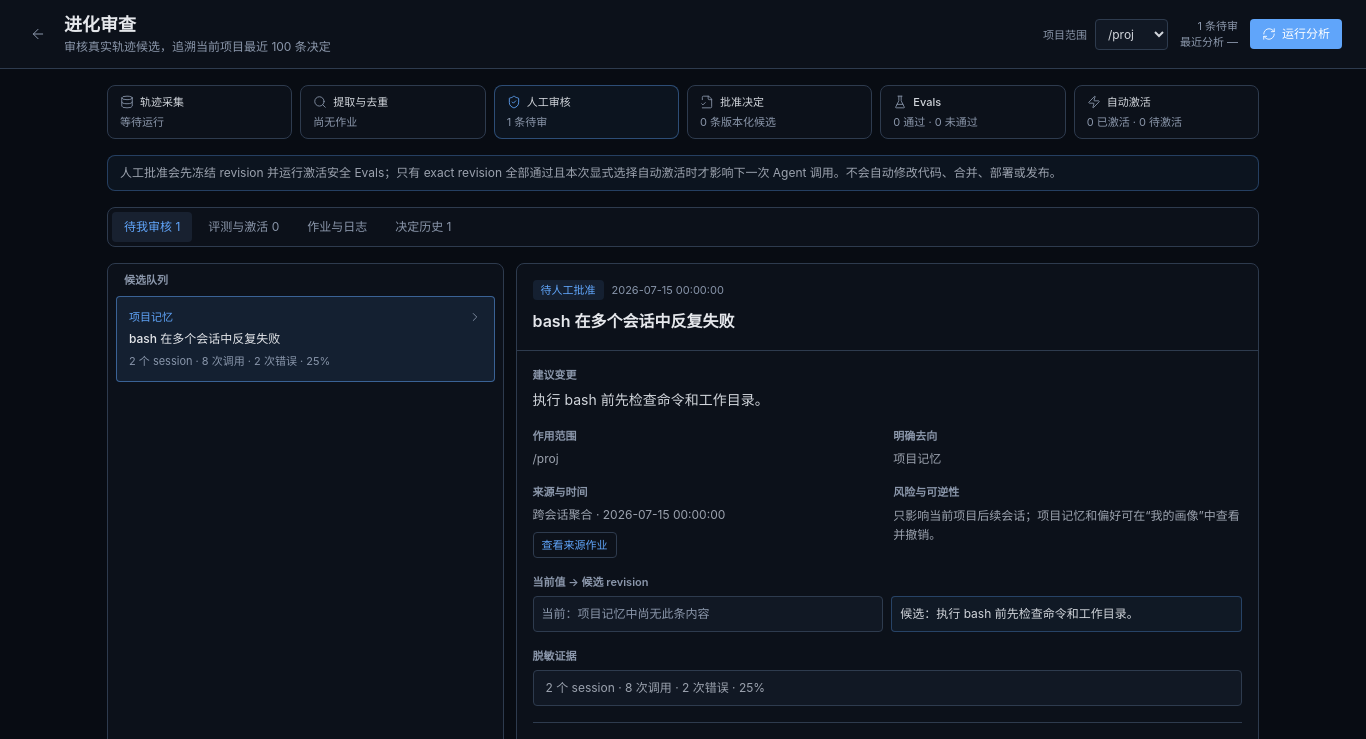
Scenario: EvolutionWorkbenchPage › opens the persisted failed analysis after a run error
What coordinates should you click on to do the following:
click the button "运行分析"
I would click on:
 (1296, 34)
Its box is [1250,19,1342,49].
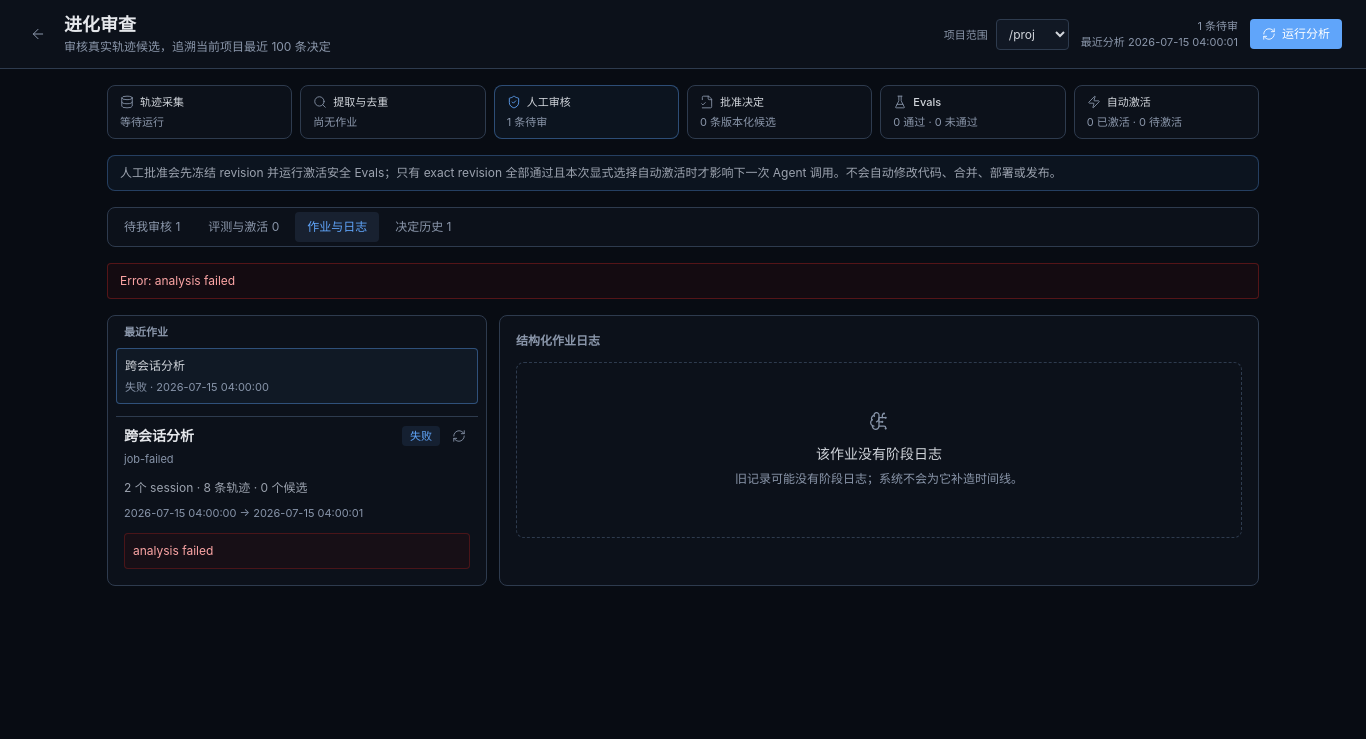
Check: the text "job-failed" is shown, box [124,452,174,466]
Check: the text "analysis failed" is shown, box [124,533,470,569]
